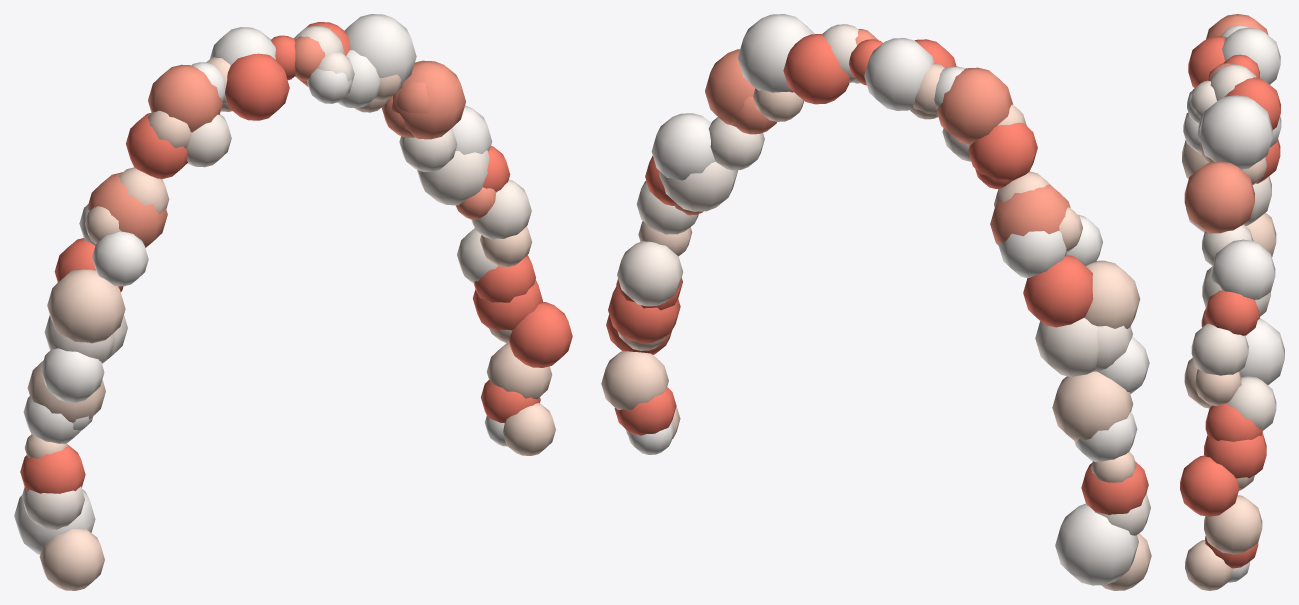
File: balloon_arch_pastel.glb
3 renders of one model, left to right at view 1: azimuth 30°, elevation 25°; view 2: azimuth 150°, elevation 25°; view 3: azimuth 270°, elevation 25°, orthographic. The views are drawn at different scales.
Parts seen in each view (by area): view 1: balloon_arch_pastel; view 2: balloon_arch_pastel; view 3: balloon_arch_pastel.
Boxes of the visible parts, <box> form: balloon_arch_pastel: <box>14,14,572,590</box>; balloon_arch_pastel: <box>601,14,1151,590</box>; balloon_arch_pastel: <box>1180,14,1284,590</box>.
Bounding box in the file's own units: 2.62 × 2.34 × 0.481.
